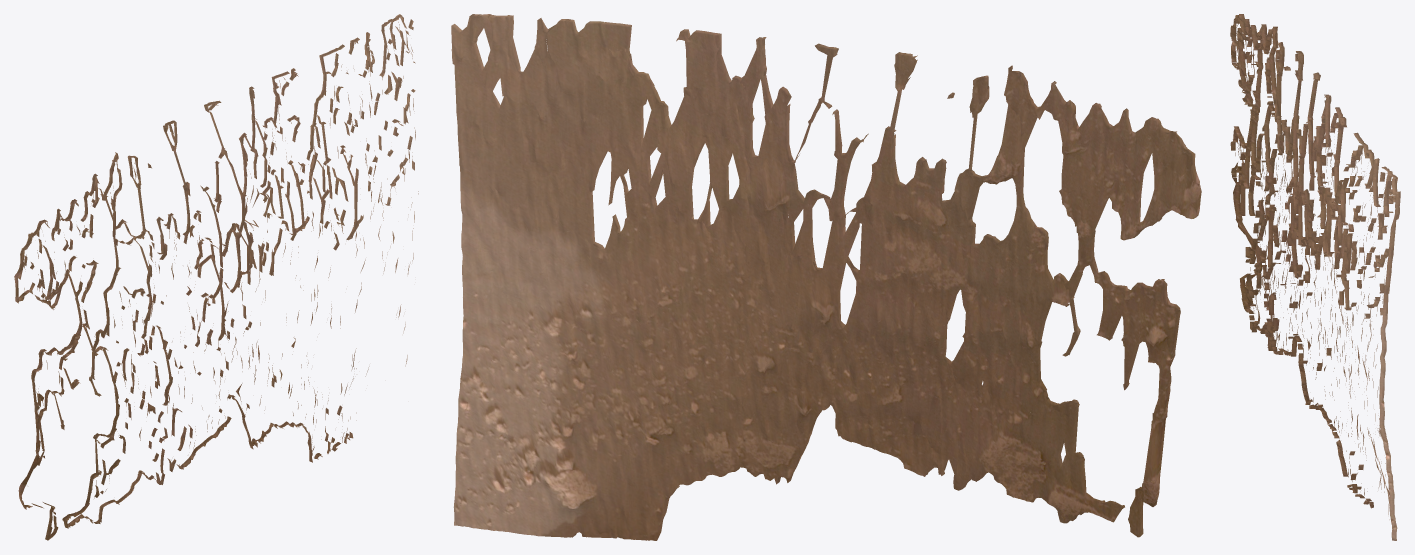
The picture shows the model from 3 angles, left to right: view 1: azimuth 30°, elevation 25°; view 2: azimuth 150°, elevation 25°; view 3: azimuth 270°, elevation 25°; orthographic projection. The views are drawn at different scales.
Size of the model in its own units: 1.04 by 0.8141 by 0.3516.
1 material, 1 textured.
